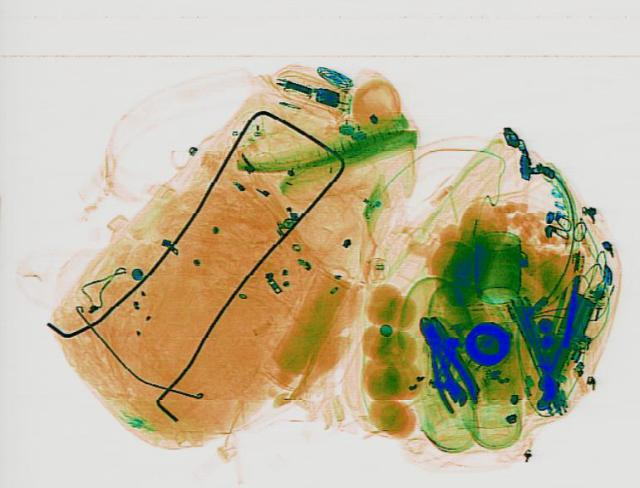Pliers: (399, 311, 486, 412)
